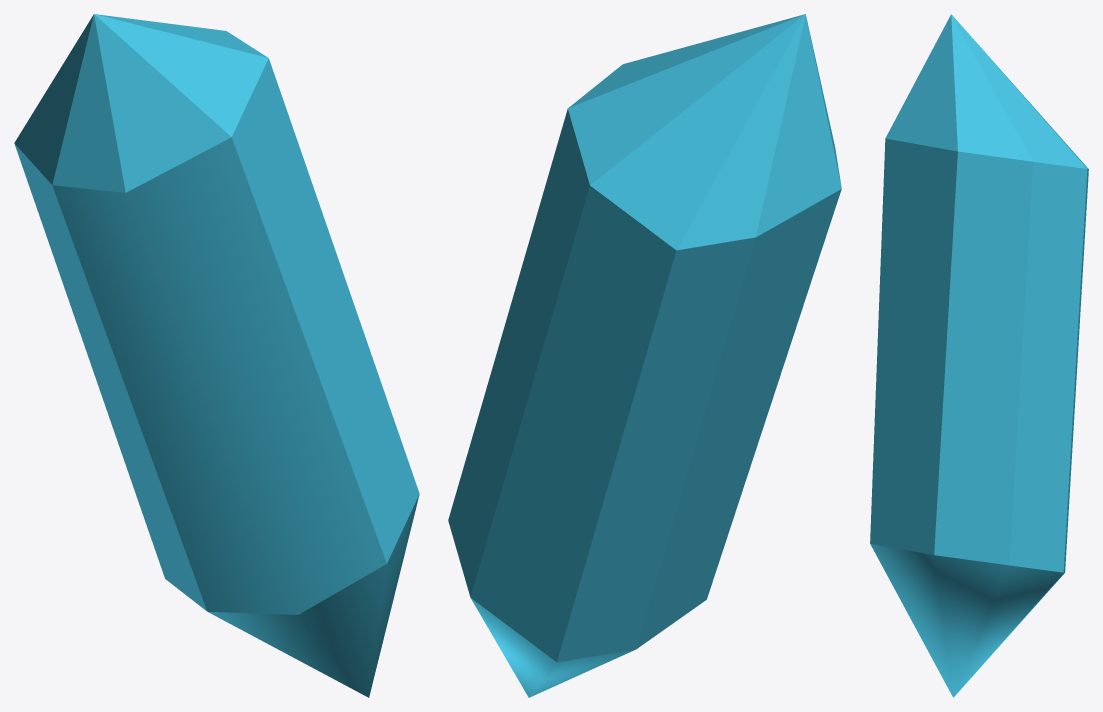
Rendered from diamon.fbx.
3 views of the same model, side by side, from view 1: azimuth 30°, elevation 25°; view 2: azimuth 150°, elevation 25°; view 3: azimuth 270°, elevation 25° (orthographic). The views are drawn at different scales.
Visible parts, largest first — view 1: PP_Stone_Crystal_02_Gold; view 2: PP_Stone_Crystal_02_Gold; view 3: PP_Stone_Crystal_02_Gold.
Part boxes in pixels (box(x1,y1,x2,y2)): PP_Stone_Crystal_02_Gold: box(14, 14, 419, 697); PP_Stone_Crystal_02_Gold: box(448, 14, 841, 697); PP_Stone_Crystal_02_Gold: box(870, 14, 1088, 697).
Size of the model in its own units: 11.02 by 22.02 by 7.53.
